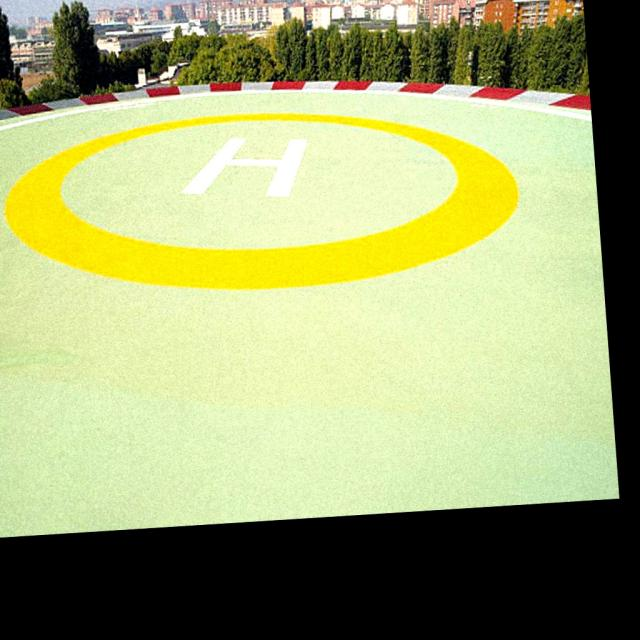helipad: (0, 111, 527, 297)
